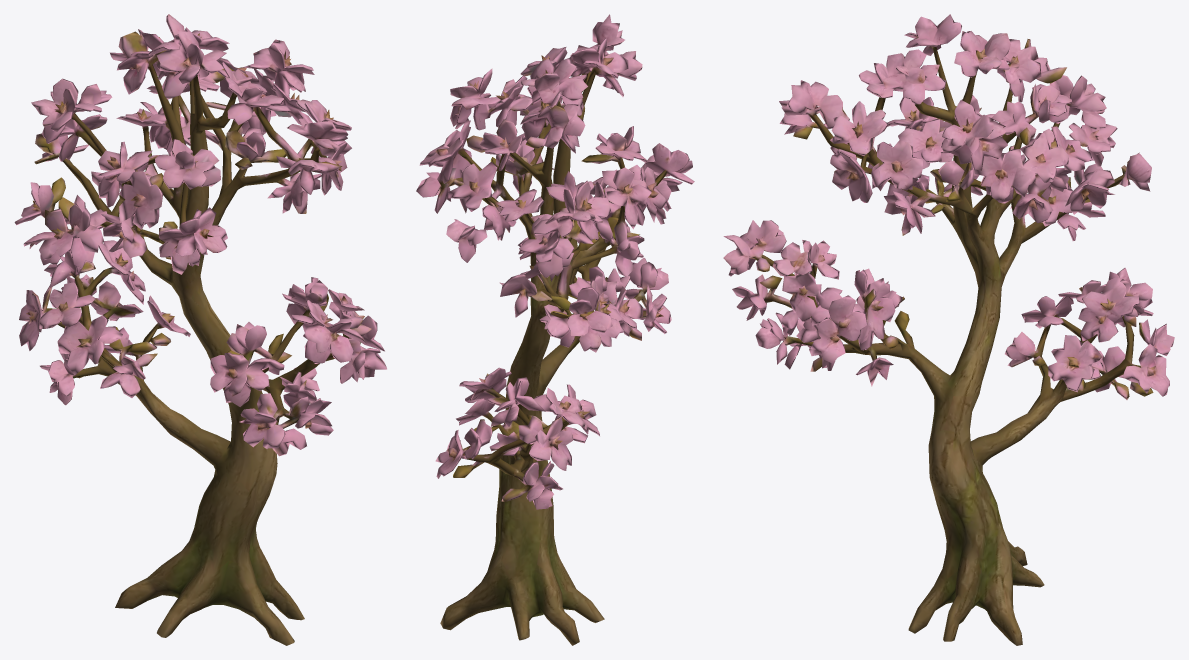
File: arbol_flor.glb
3 renders of one model, left to right at view 1: azimuth 30°, elevation 25°; view 2: azimuth 150°, elevation 25°; view 3: azimuth 270°, elevation 25°, orthographic. The views are drawn at different scales.
Visible parts, largest first — view 1: tripo_node_8409af19-163e-4483-a1ee-99ba046c918a; view 2: tripo_node_8409af19-163e-4483-a1ee-99ba046c918a; view 3: tripo_node_8409af19-163e-4483-a1ee-99ba046c918a.
Part boxes in pixels (x1,y1,x2,y2): tripo_node_8409af19-163e-4483-a1ee-99ba046c918a: (14, 14, 386, 645); tripo_node_8409af19-163e-4483-a1ee-99ba046c918a: (416, 14, 694, 645); tripo_node_8409af19-163e-4483-a1ee-99ba046c918a: (723, 14, 1174, 645).
Size of the model in its own units: 0.393 by 1 by 0.7071.
Materials: 1 (1 with a texture image).
